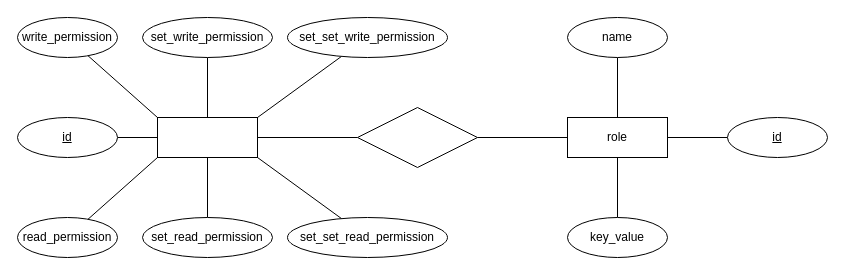
Some shapes in this 845 by 275 pixel diagram are drawn without their labels. Each missing label, with the centre of its shape:
role_permissions: the point at 207,137
wird zugeordnet zu: the point at 417,137
